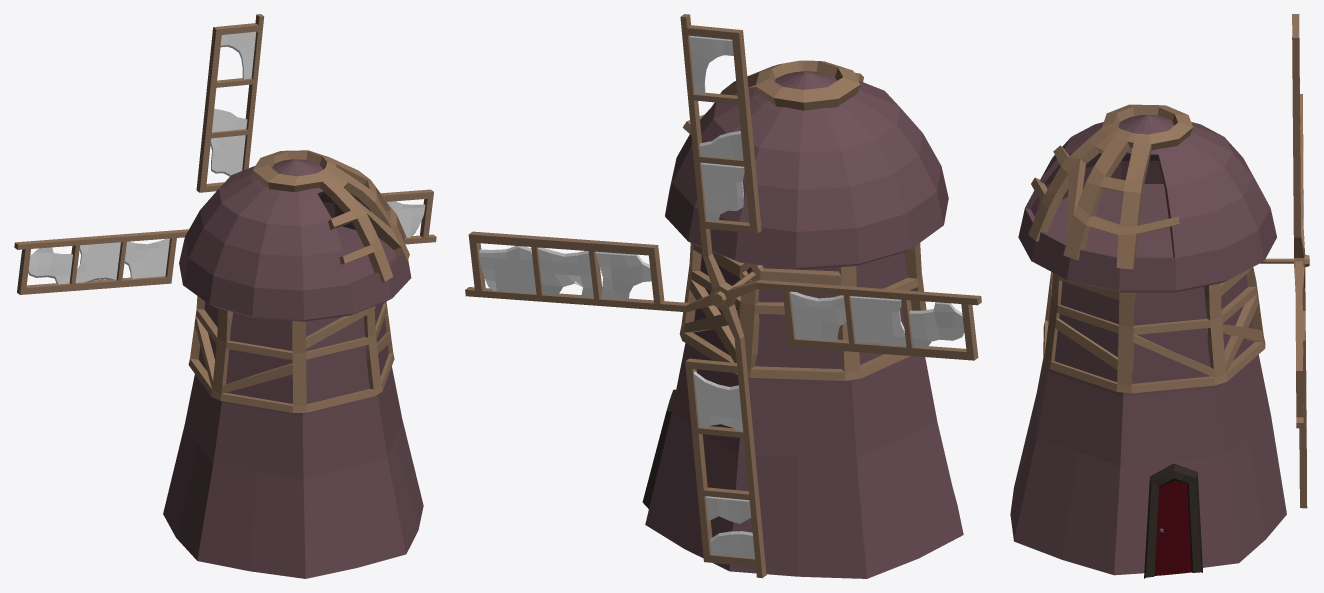
Rendered from wind mill.fbx.
3 views of the same model, side by side, from view 1: azimuth 30°, elevation 25°; view 2: azimuth 150°, elevation 25°; view 3: azimuth 270°, elevation 25° (orthographic). The views are drawn at different scales.
Visible parts, largest first — view 1: wind mill, fan; view 2: wind mill, fan; view 3: wind mill, fan.
Boxes of the visible parts, <box> form: wind mill: <box>163,150,423,578</box>; fan: <box>14,14,436,294</box>; wind mill: <box>642,60,963,578</box>; fan: <box>465,14,981,578</box>; wind mill: <box>1010,104,1286,578</box>; fan: <box>1260,14,1309,508</box>.
Size of what is drawn, in the model's own units: 1944 by 2006 by 1090.
